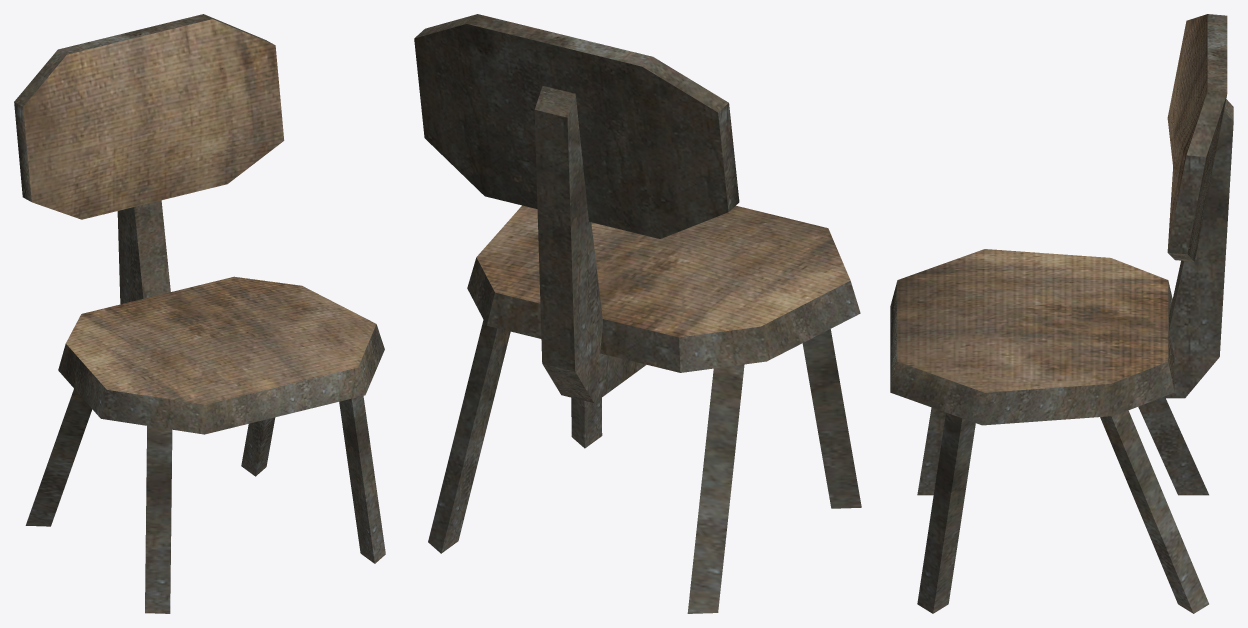
The model's file is frn_tato_chair_cafe_s01_l1.fbx.
3 views of the same model, side by side, from view 1: azimuth 30°, elevation 25°; view 2: azimuth 150°, elevation 25°; view 3: azimuth 270°, elevation 25° (orthographic). The views are drawn at different scales.
Parts seen in each view (by area): view 1: mesh_node; view 2: mesh_node; view 3: mesh_node.
Part boxes in pixels (x1,y1,x2,y2): mesh_node: [14, 14, 385, 613]; mesh_node: [414, 14, 861, 613]; mesh_node: [890, 14, 1233, 613].
Bounding box in the file's own units: 0.5676 × 0.8683 × 0.5439.
